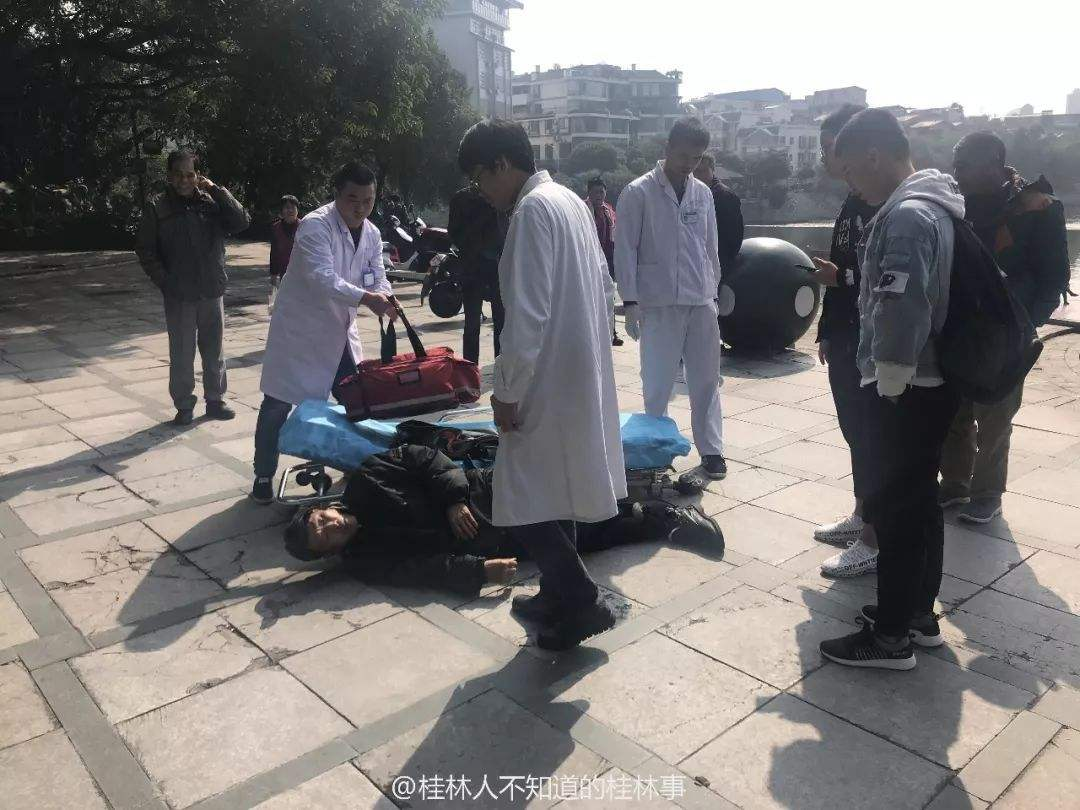10+: (133, 79, 1076, 665)
down: (260, 428, 739, 598)
